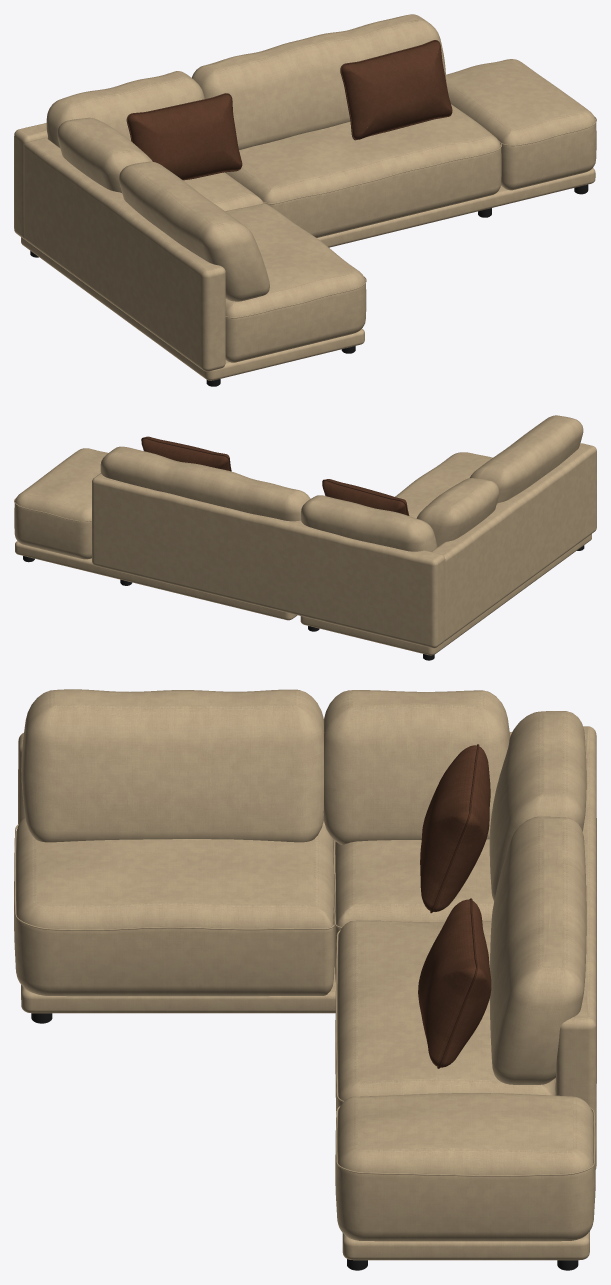
File: corner.glb
3 renders of one model, top to bottom at view 1: azimuth 30°, elevation 25°; view 2: azimuth 150°, elevation 25°; view 3: azimuth 270°, elevation 25°, orthographic. The views are drawn at different scales.
Parts seen in each view (by area): view 1: fabric (×2), accent (×2); view 2: fabric, accent (×2); view 3: fabric (×2), accent (×2).
Boxes of the visible parts, box(x1,y1,x2,y2) form: fabric (×2): box(14, 14, 596, 380); accent (×2): box(126, 40, 452, 180); fabric: box(14, 415, 596, 655); accent (×2): box(141, 436, 409, 515); fabric (×2): box(14, 689, 596, 1260); accent (×2): box(418, 744, 491, 1068).
Size of the model in its own units: 3 by 0.8831 by 2.
Materials: 5 (4 with a texture image).
